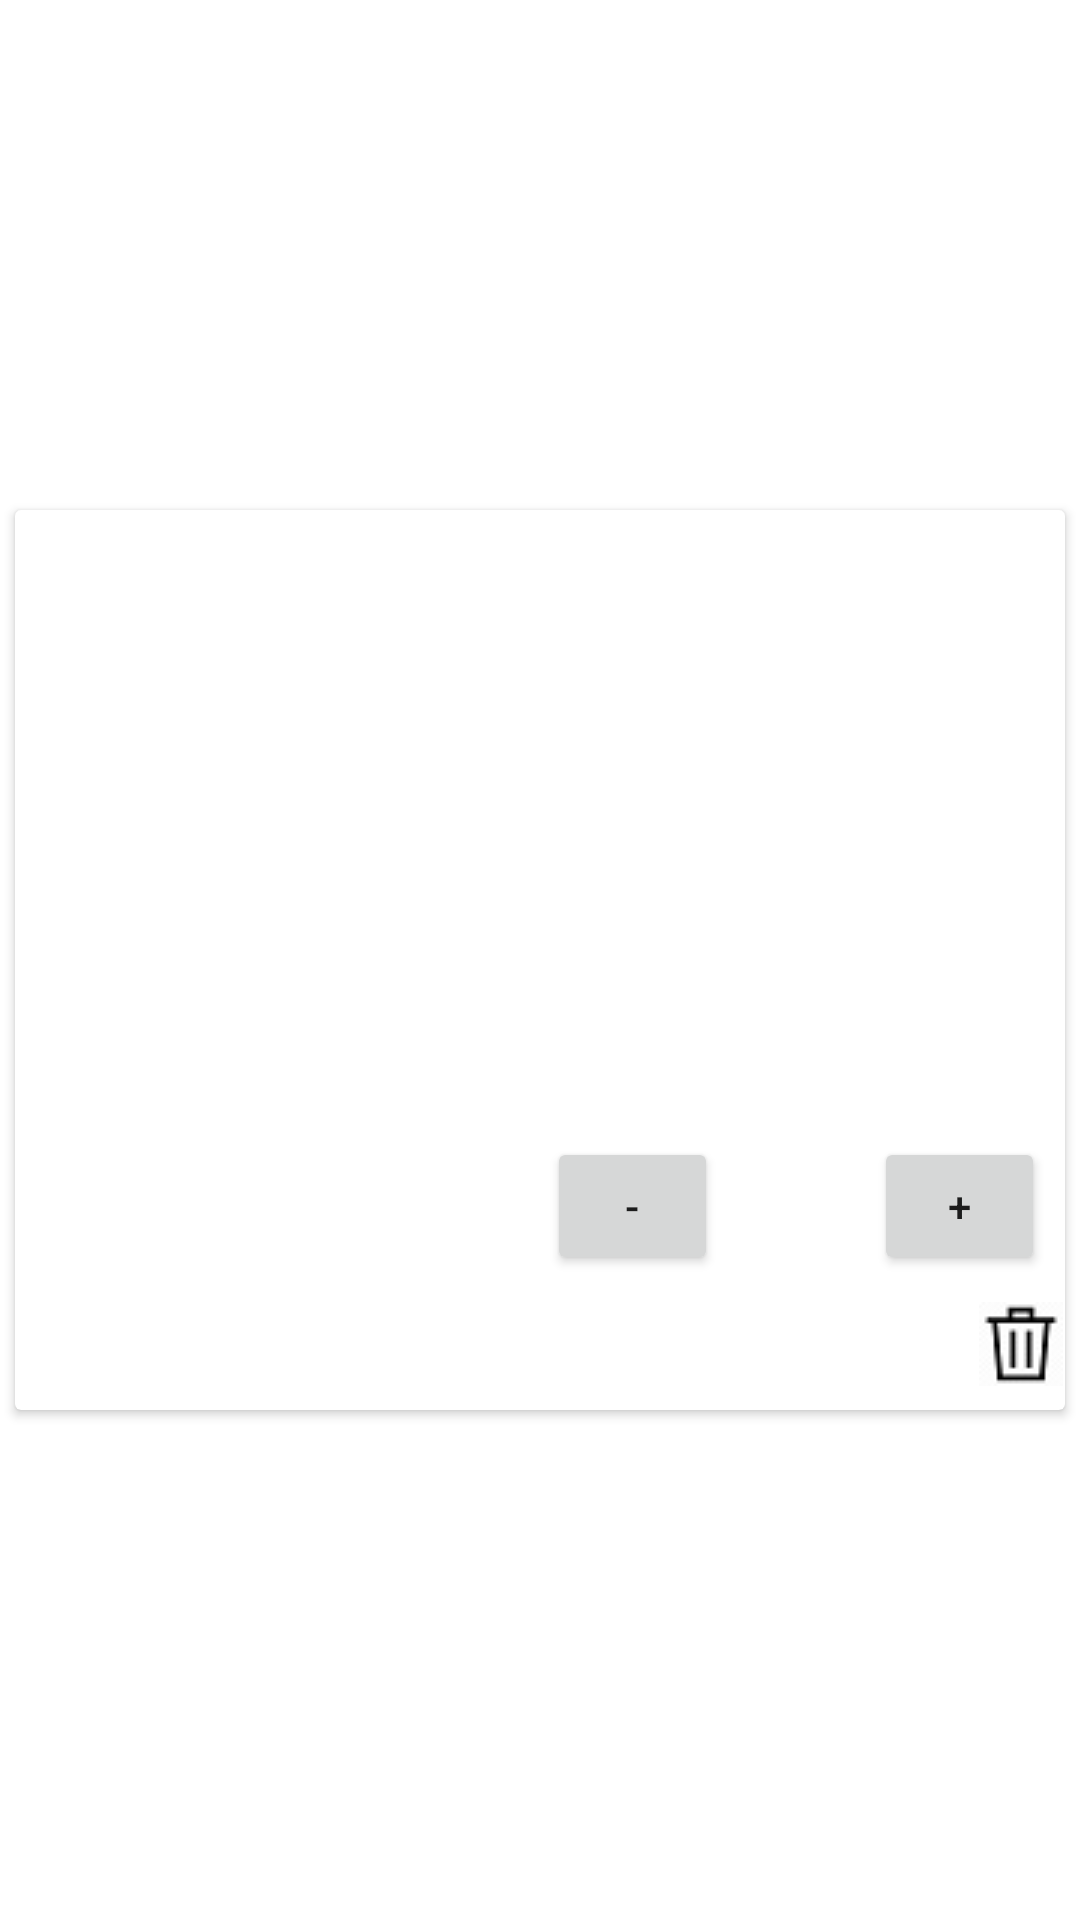

Screen size 1080x1920. Icon name, then its box in pixels as region(x1, y1, x2, y2):
delete: region(984, 1305, 1058, 1383)
